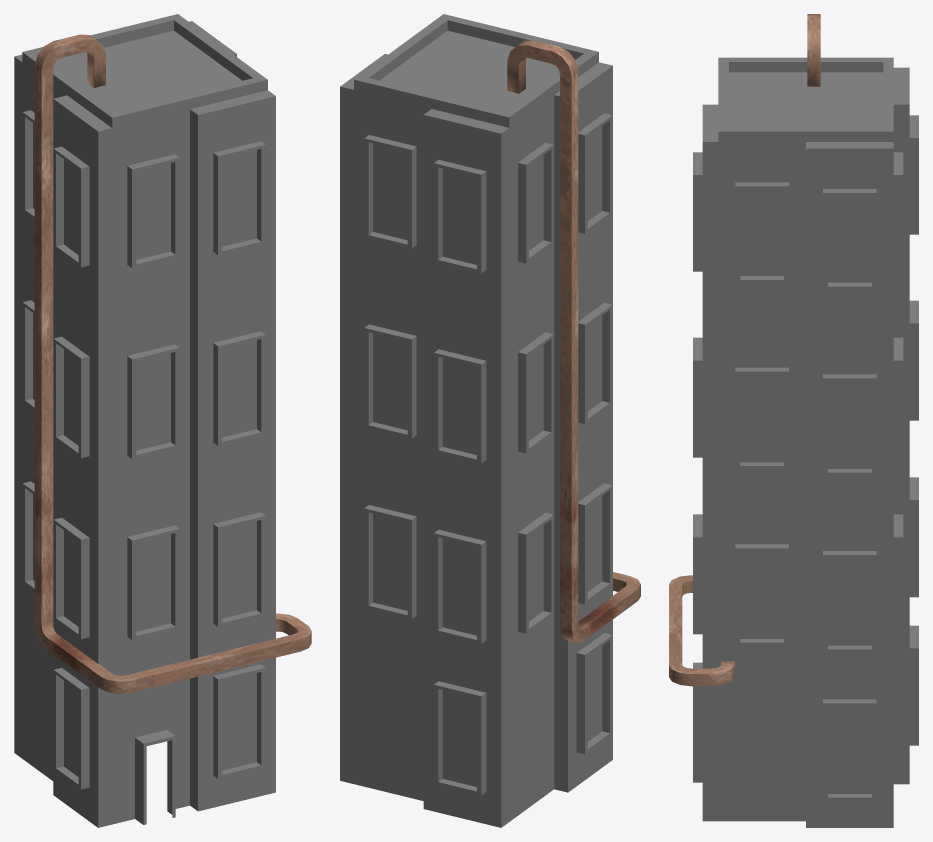
File: Comme delux buildin.fbx
The picture shows the model from 3 angles, left to right: view 1: azimuth 30°, elevation 25°; view 2: azimuth 150°, elevation 25°; view 3: azimuth 270°, elevation 25°; orthographic projection. The views are drawn at different scales.
Visible parts, largest first — view 1: Cube.006, Plane; view 2: Cube.006, Plane; view 3: Cube.006, Plane.
Boxes of the visible parts, box(x1,y1,x2,y2) form: Cube.006: box(14, 14, 275, 827); Plane: box(34, 34, 311, 693); Cube.006: box(340, 14, 612, 827); Plane: box(507, 40, 640, 642); Cube.006: box(693, 57, 918, 827); Plane: box(669, 14, 820, 686).
Bounding box in the file's own units: 267 × 916 × 285.
